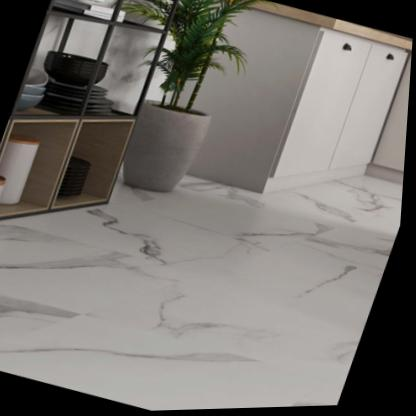Cabinet: (265, 18, 413, 195)
Ceramic floor: (0, 178, 406, 412)
